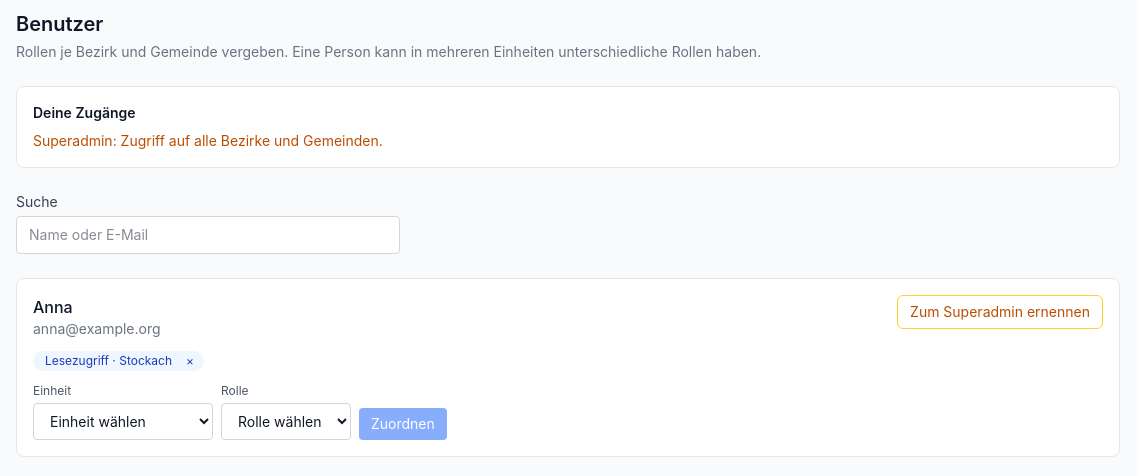
UsersAdminView › lets a superadmin appoint another superadmin
This screenshot has width=1137, height=476.
What coordinates should you click on to do the following:
click the button "Zum Superadmin ernennen"
I would click on:
 (1000, 312)
Its box is [897,295,1103,329].
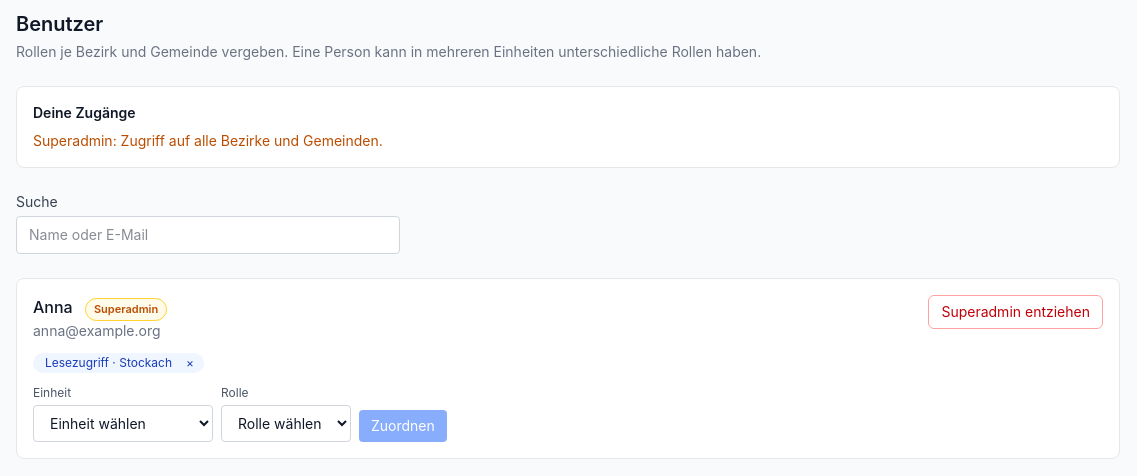
Now the text "Superadmin entziehen" is shown, box [928,295,1103,329]
